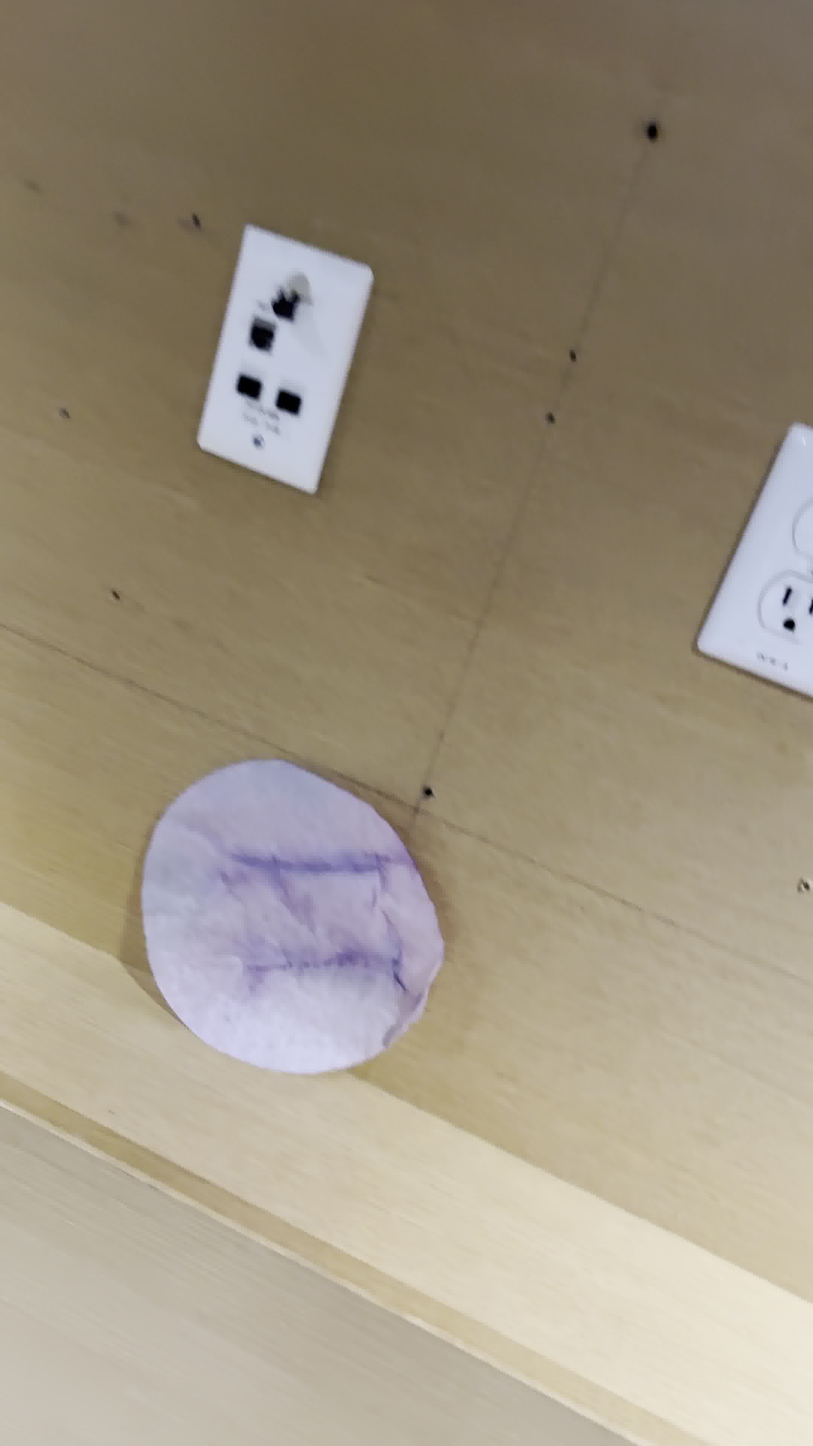Target: (137, 758, 442, 1074)
